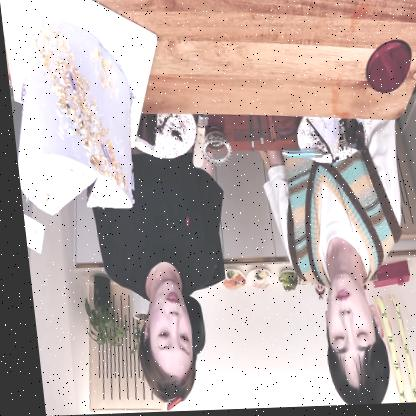streamer: (252, 123, 416, 409), (78, 145, 239, 413)
